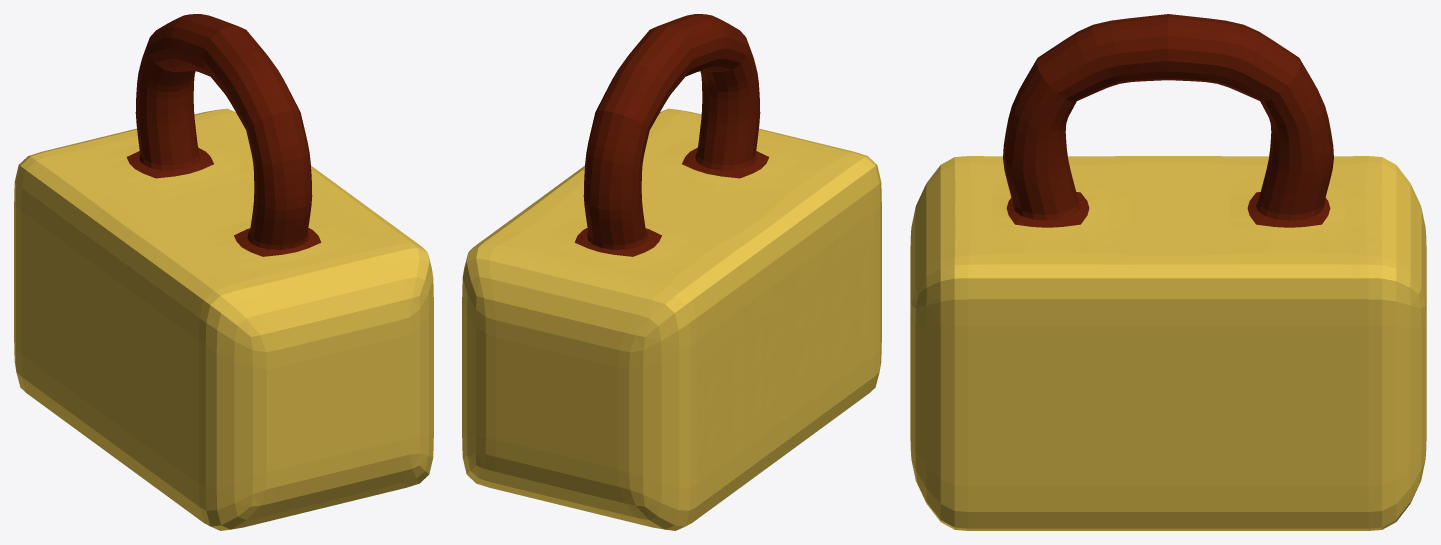
The model's file is Lock.dae.
3 views of the same model, side by side, from view 1: azimuth 30°, elevation 25°; view 2: azimuth 150°, elevation 25°; view 3: azimuth 270°, elevation 25° (orthographic). The views are drawn at different scales.
Parts seen in each view (by area): view 1: Cube; view 2: Cube; view 3: Cube.
Part boxes in pixels (left/top/right/bottom): Cube: left=14, top=14, right=433, bottom=530; Cube: left=462, top=14, right=881, bottom=530; Cube: left=910, top=14, right=1426, bottom=530.
Bounding box in the file's own units: 2 × 3.49 × 3.45.
